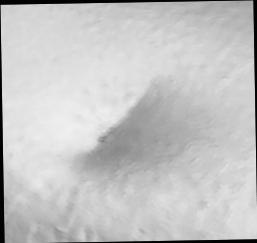dent: (1, 1, 257, 243)
